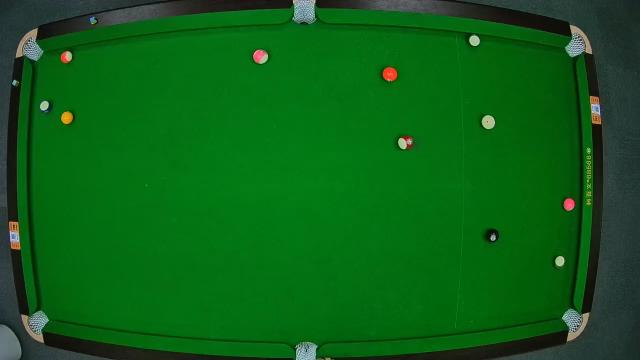bag1: (22, 38, 44, 62)
bag2: (293, 1, 315, 23)
bag3: (566, 34, 586, 57)
bag4: (29, 308, 49, 334)
bag5: (294, 342, 320, 360)
bag6: (562, 310, 582, 332)
ball0: (480, 114, 496, 131)
ball1: (60, 110, 76, 126)
ball10: (38, 100, 56, 114)
ball11: (396, 134, 414, 150)
ball12: (251, 48, 269, 66)
ball13: (58, 47, 74, 64)
ball14: (466, 33, 482, 49)
ball15: (552, 253, 568, 269)
ball4: (561, 197, 577, 212)
ball5: (382, 66, 398, 84)
ball8: (486, 228, 500, 243)
